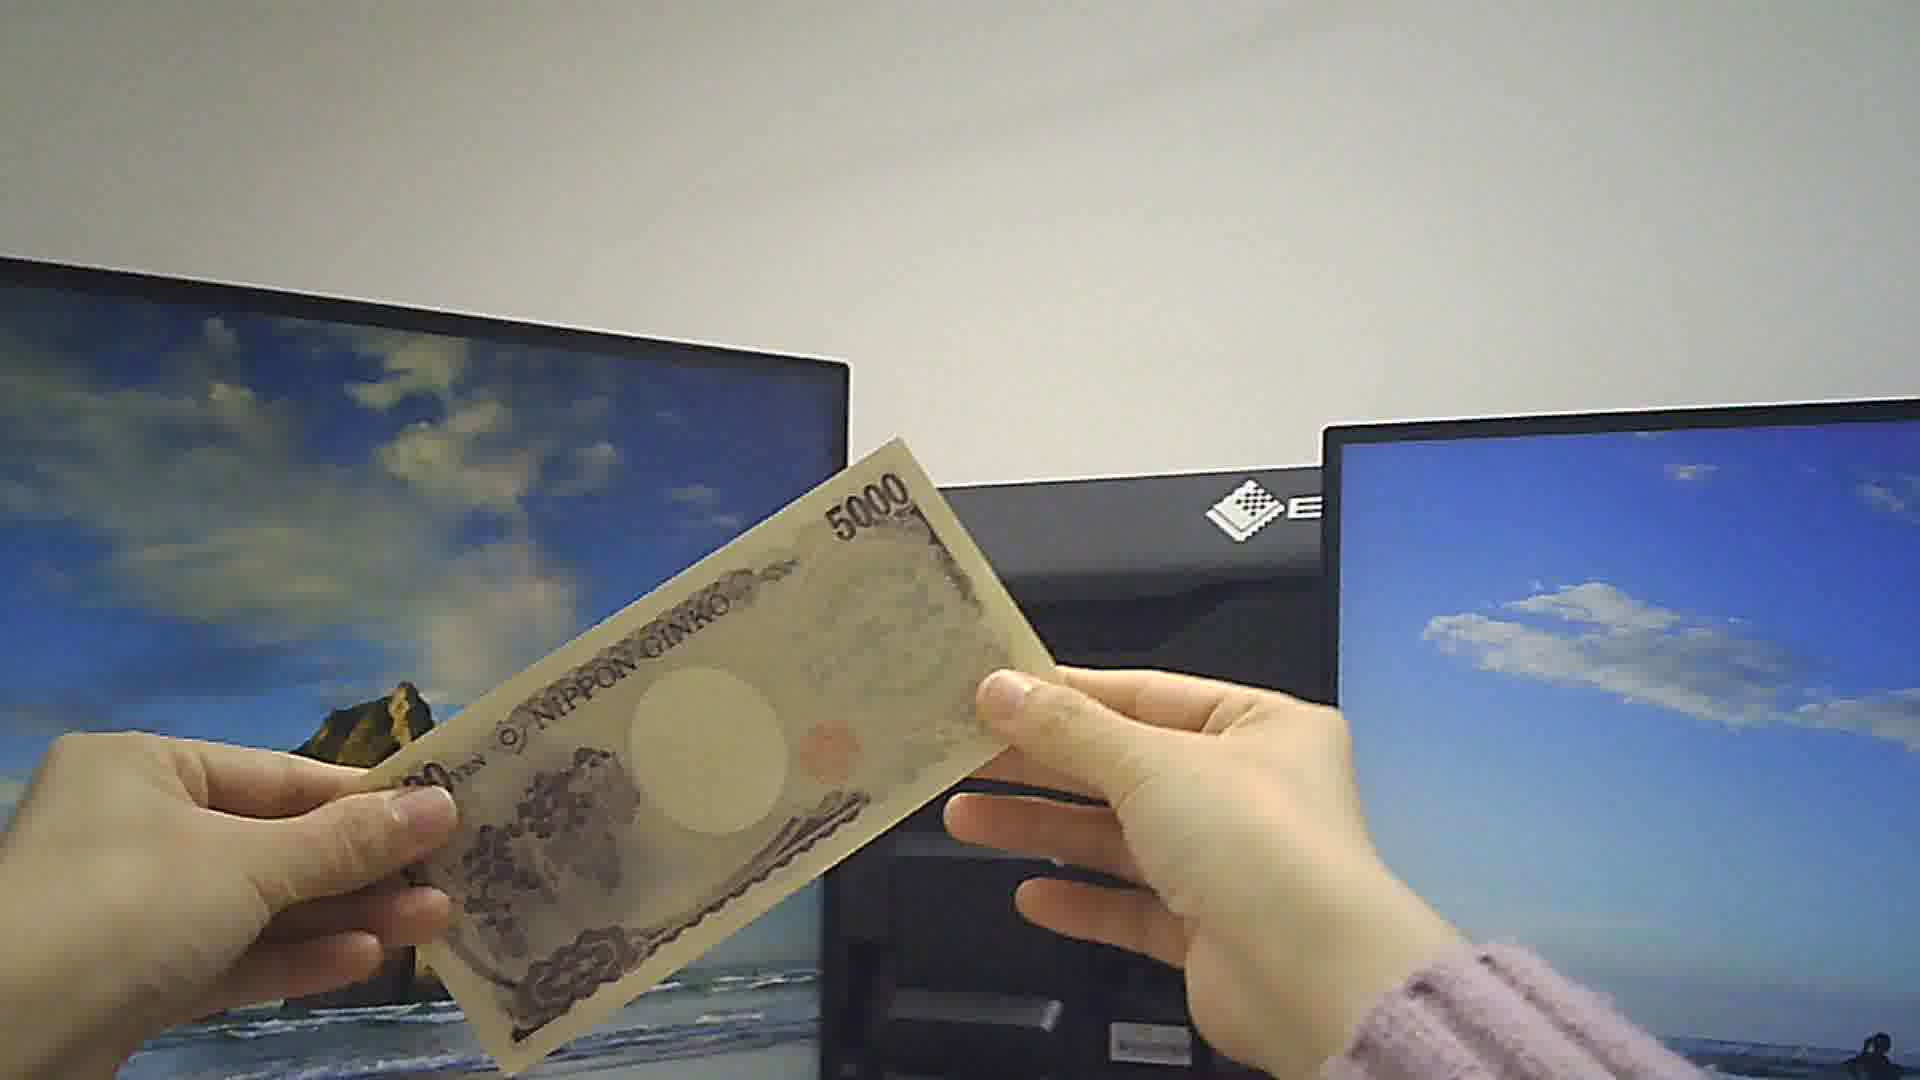5,000 Yen: (319, 451, 1092, 1079)
